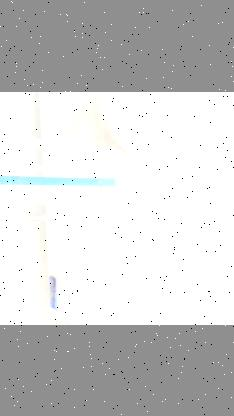Others: (0, 117, 132, 241)
